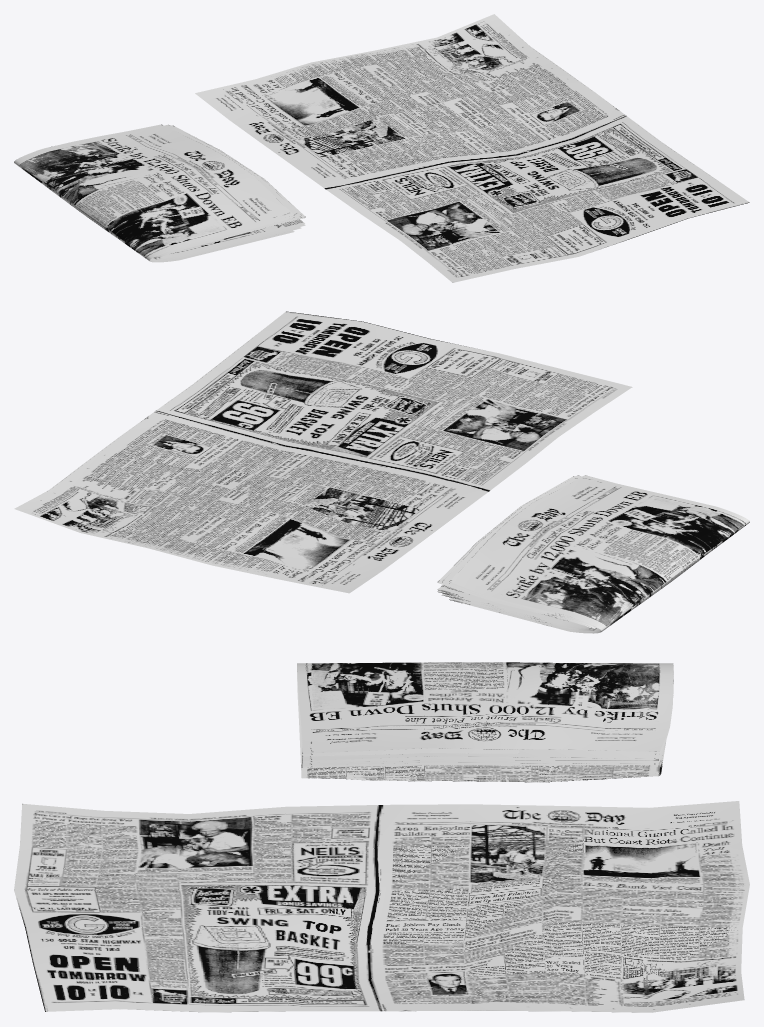
Rendered from Zeitung.fbx.
3 renders of one model, top to bottom at view 1: azimuth 30°, elevation 25°; view 2: azimuth 150°, elevation 25°; view 3: azimuth 270°, elevation 25°, orthographic. The views are drawn at different scales.
Parts seen in each view (by area): view 1: Zeitung_flat, Zeitung_Rolle_Lesbar; view 2: Zeitung_flat, Zeitung_Rolle_Lesbar; view 3: Zeitung_flat, Zeitung_Rolle_Lesbar.
Part boxes in pixels (x1,y1,x2,y2): Zeitung_flat: (195, 14, 749, 282); Zeitung_Rolle_Lesbar: (14, 124, 305, 262); Zeitung_flat: (14, 311, 632, 593); Zeitung_Rolle_Lesbar: (437, 475, 749, 633); Zeitung_flat: (14, 801, 749, 1012); Zeitung_Rolle_Lesbar: (297, 662, 673, 782).
Size of the model in its own units: 62.46 by 3.49 by 55.92.
